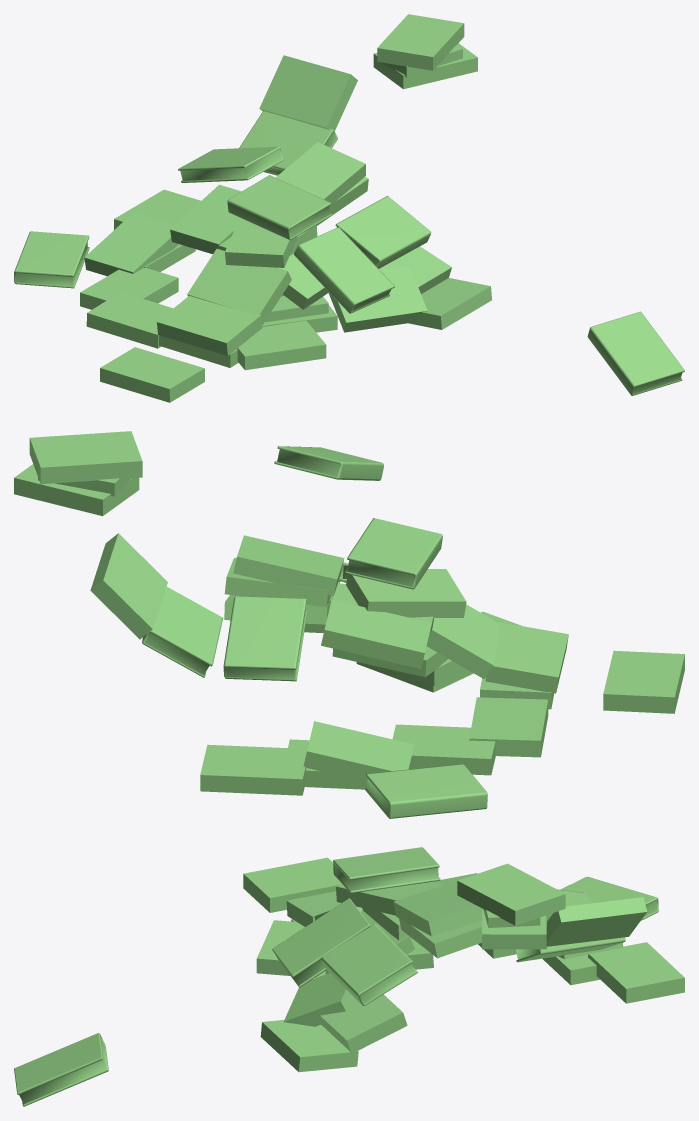
File: Cupboard_11B_Break_Lod0.fbx
The picture shows the model from 3 angles, top to bottom: view 1: azimuth 30°, elevation 25°; view 2: azimuth 150°, elevation 25°; view 3: azimuth 270°, elevation 25°; orthographic projection. The views are drawn at different scales.
Visible parts, largest first — view 1: Cupboard_11B_Break_Lod0; view 2: Cupboard_11B_Break_Lod0; view 3: Cupboard_11B_Break_Lod0.
Boxes of the visible parts, x1,y1,x2,y2 form: Cupboard_11B_Break_Lod0: (14, 14, 684, 402); Cupboard_11B_Break_Lod0: (14, 431, 684, 818); Cupboard_11B_Break_Lod0: (14, 847, 684, 1106).
Bounding box in the file's own units: 191 × 77.2 × 229.
